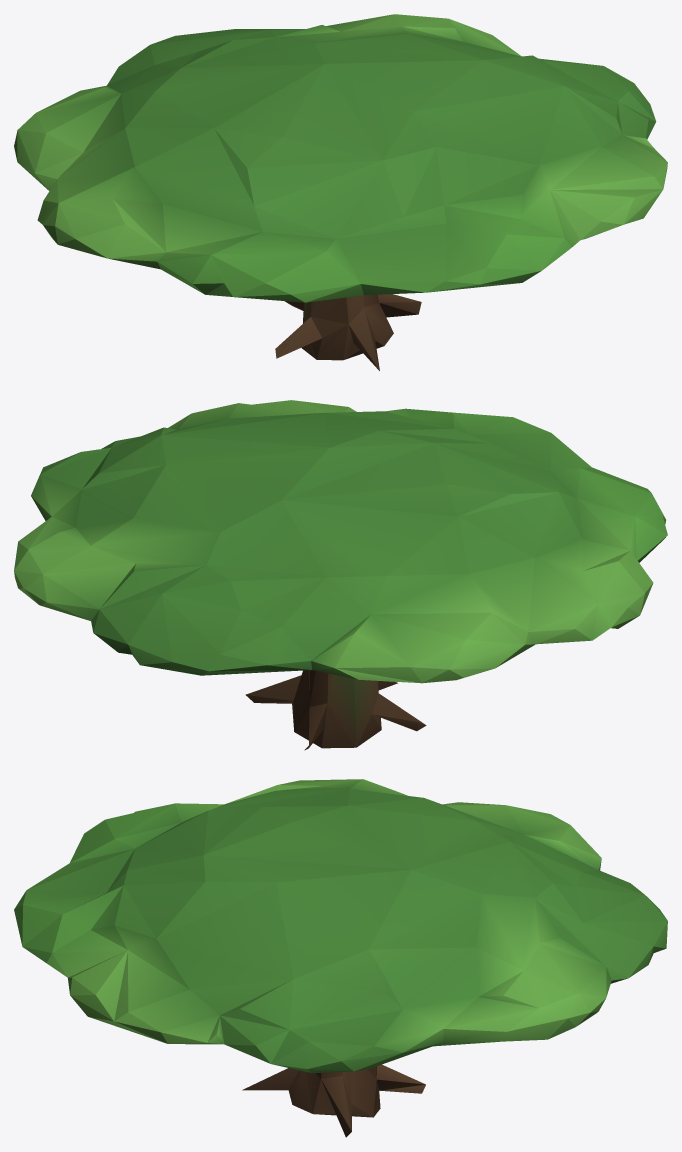
Rendered from broadleaf_wide_low_far.glb.
3 renders of one model, top to bottom at view 1: azimuth 30°, elevation 25°; view 2: azimuth 150°, elevation 25°; view 3: azimuth 270°, elevation 25°, orthographic.
Visible parts, largest first — view 1: broadleaf_wide_low_LOD3; view 2: broadleaf_wide_low_LOD3; view 3: broadleaf_wide_low_LOD3.
Part boxes in pixels (x1,y1,x2,y2): broadleaf_wide_low_LOD3: (14, 14, 667, 370); broadleaf_wide_low_LOD3: (14, 400, 667, 750); broadleaf_wide_low_LOD3: (14, 779, 667, 1137).
Bounding box in the file's own units: 6.33 × 2.62 × 6.17.
